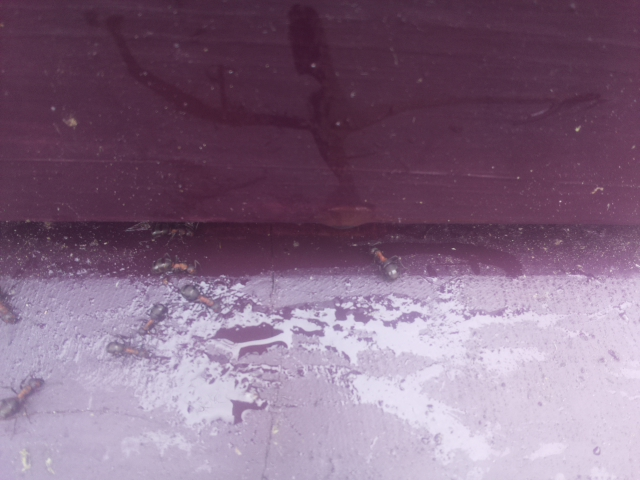ant: (0, 373, 51, 423), (366, 239, 406, 289), (173, 280, 218, 312), (102, 337, 147, 363), (139, 301, 168, 336), (147, 255, 196, 273), (1, 294, 20, 329)
